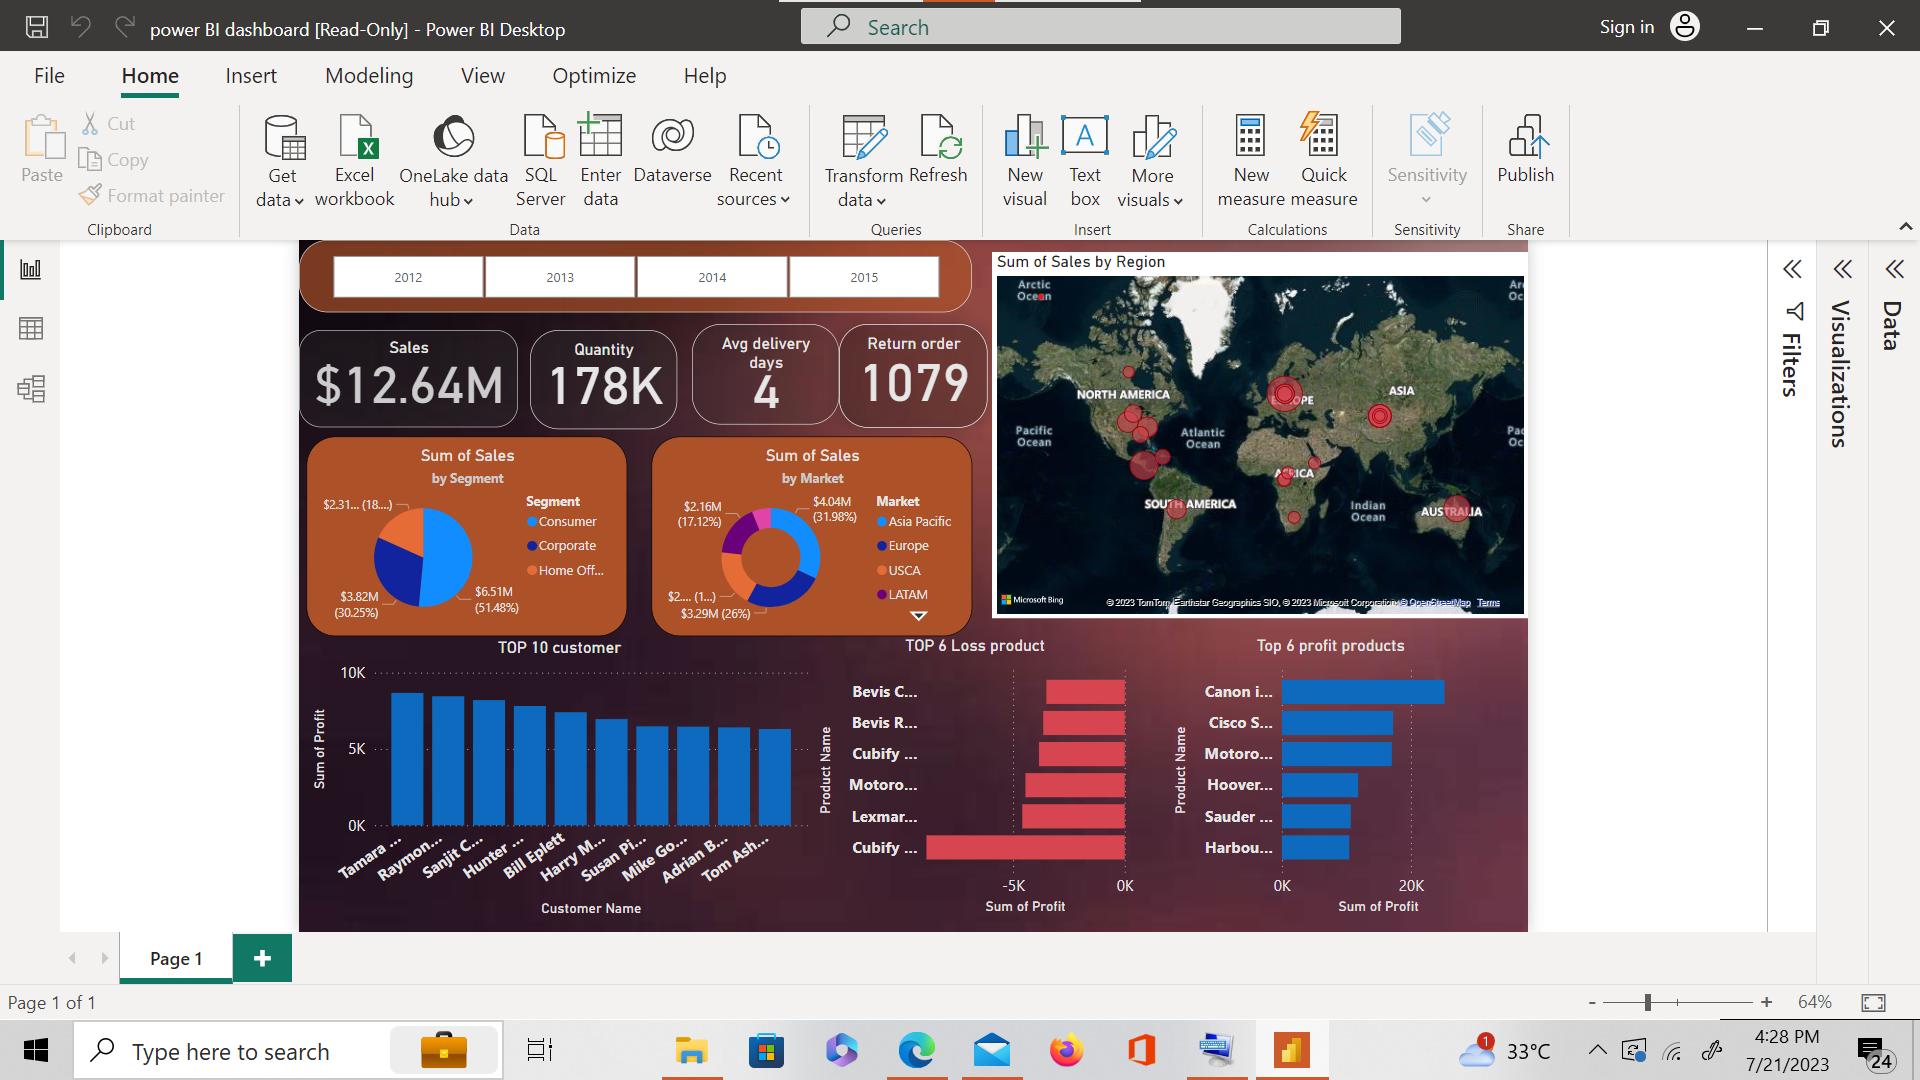

What the dashboard file says about the page in this screenshot:
{"tool":"powerbi","page":{"name":"Page 1","canvas":[1280,720],"ordinal":0},"visuals":[{"type":"card","title":"Sales","fields":{"Values":["Orders.Sales"]},"box":[0,93.7,228,101.5],"z":0},{"type":"card","title":"Quantity","fields":{"Values":["Orders.Quantity"]},"box":[240.5,93.7,153.1,103.1],"z":1000},{"type":"card","title":"Avg delivery days","fields":{"Values":["Orders.Delivery days "]},"box":[409.2,87.5,153.1,104.6],"z":2000},{"type":"slicer","fields":{"Values":["Orders.year "]},"box":[0,0,700.4,75.5],"z":3000},{"type":"card","title":"Return order","fields":{"Values":["Returns.returned orders"]},"box":[562.3,87.5,154.6,107.8],"z":4000},{"type":"map","fields":{"Category":["Orders.Region"],"Size":["Orders.Sales"]},"box":[721.2,13.2,558.8,381.4],"z":5000},{"type":"barChart","title":"Top 6 profit products","fields":{"Category":["Orders.Product Name"],"Y":["Orders.Profit"]},"box":[904.3,411.6,339.8,294.5],"z":6000},{"type":"barChart","title":"TOP 6 Loss product","fields":{"Category":["Orders.Product Name"],"Y":["Orders.Profit"]},"box":[534.3,411.6,339.8,294.5],"z":7000},{"type":"pieChart","fields":{"Category":["Orders.Segment"],"Y":["Orders.Sales"]},"box":[7.8,204.6,334.2,207.7],"z":8000},{"type":"donutChart","fields":{"Category":["Orders.Market"],"Y":["Orders.Sales"]},"box":[367,204.6,334.2,207.7],"z":9000},{"type":"columnChart","title":"TOP 10 customer ","fields":{"Category":["Orders.Customer Name"],"Y":["Orders.Profit"]},"box":[7.6,413.5,526.7,294.5],"z":10000}]}

Visuals, with their boxes on the page's 1280x720 design canvas (x1, y1, x2, y2). These are canvas units, not pixel positions in the 1920x1080 screenshot, which may show the page scaled, cropped or inside an application window:
"Sales" card: box=[0, 94, 228, 195]
"Quantity" card: box=[240, 94, 394, 197]
"Avg delivery days" card: box=[409, 88, 562, 192]
slicer - Orders.year : box=[0, 0, 700, 76]
"Return order" card: box=[562, 88, 717, 195]
map - Orders.Region x Orders.Sales: box=[721, 13, 1280, 395]
"Top 6 profit products" barChart: box=[904, 412, 1244, 706]
"TOP 6 Loss product" barChart: box=[534, 412, 874, 706]
pieChart - Orders.Segment x Orders.Sales: box=[8, 205, 342, 412]
donutChart - Orders.Market x Orders.Sales: box=[367, 205, 701, 412]
"TOP 10 customer " columnChart: box=[8, 414, 534, 708]
